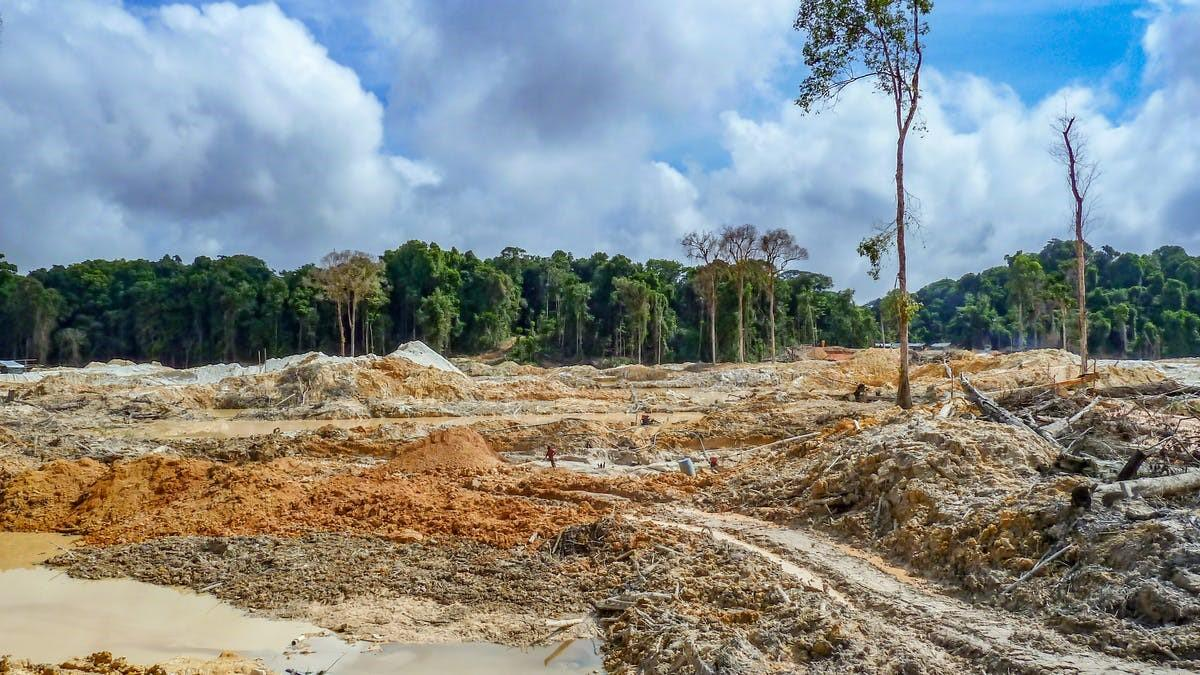MiningTool: (679, 456, 695, 475)
Person: (543, 446, 557, 470)
